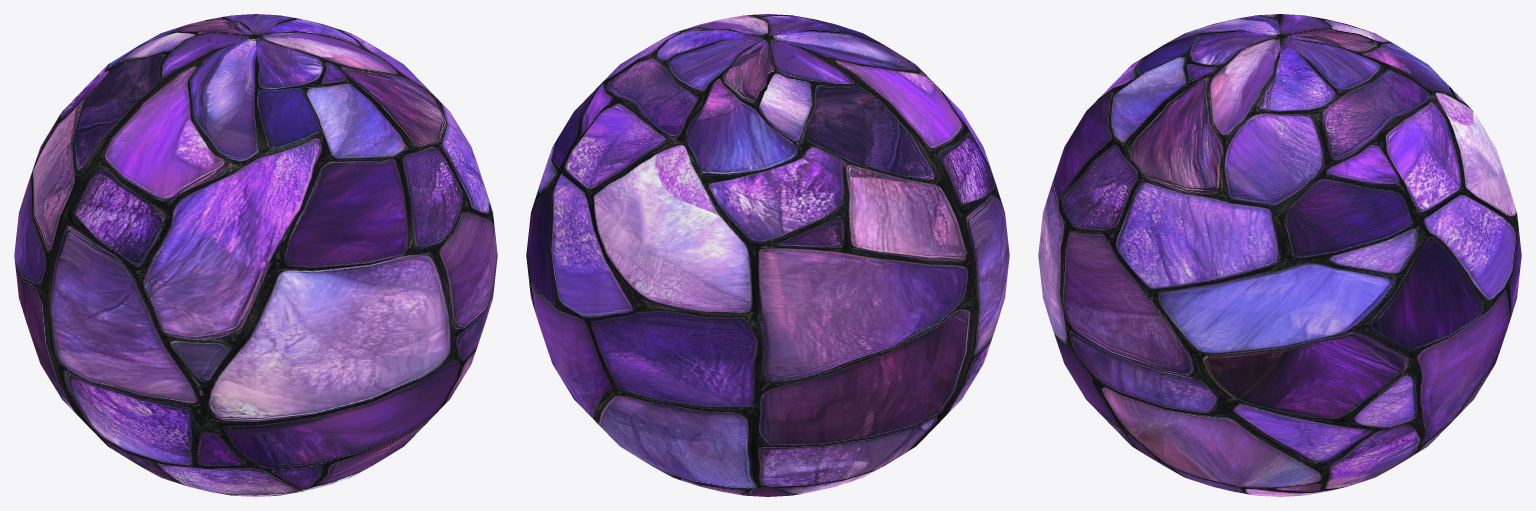
File: starPurpleEmissiveTest.glb
The picture shows the model from 3 angles, left to right: view 1: azimuth 30°, elevation 25°; view 2: azimuth 150°, elevation 25°; view 3: azimuth 270°, elevation 25°; orthographic projection.
Parts seen in each view (by area): view 1: starRef; view 2: starRef; view 3: starRef.
Part boxes in pixels (x1,y1,x2,y2): starRef: (14, 14, 497, 496); starRef: (526, 14, 1009, 496); starRef: (1038, 14, 1521, 496).
Size of the model in its own units: 1 by 1 by 1.
1 material, 1 textured.
